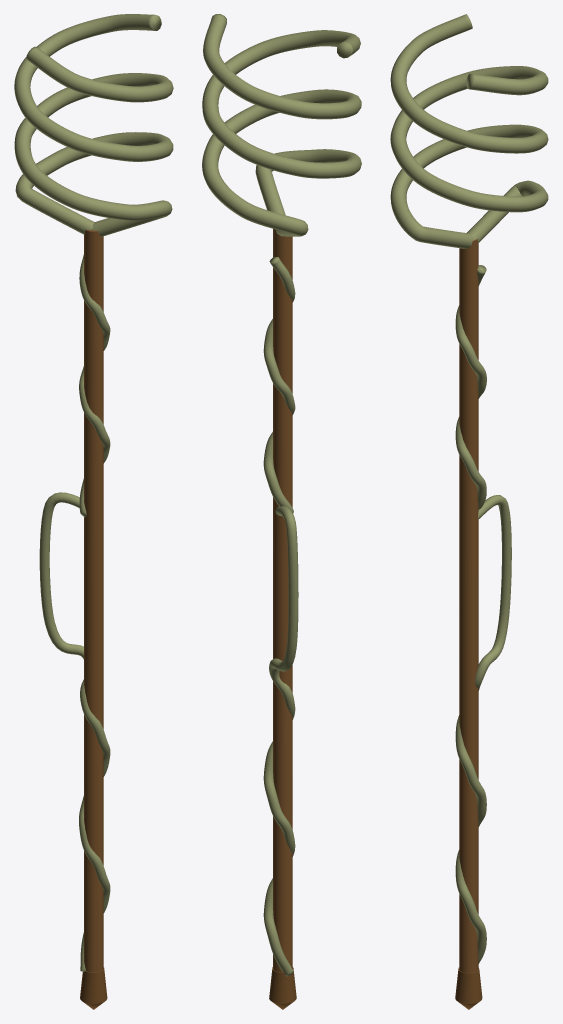
The model's file is Mage staff.glb.
3 renders of one model, left to right at view 1: azimuth 30°, elevation 25°; view 2: azimuth 150°, elevation 25°; view 3: azimuth 270°, elevation 25°, orthographic.
Visible parts, largest first — view 1: Spline 3D (×3), Staff2, Cylinder; view 2: Spline 3D (×3), Staff2, Cylinder; view 3: Spline 3D (×3), Staff2, Cylinder.
Part boxes in pixels (x1,y1,x2,y2): Spline 3D (×3): (14, 14, 173, 971); Staff2: (84, 230, 103, 972); Cylinder: (80, 967, 107, 1003); Spline 3D (×3): (202, 14, 361, 976); Staff2: (273, 229, 292, 972); Cylinder: (269, 967, 296, 1003); Spline 3D (×3): (390, 14, 548, 963); Staff2: (459, 239, 478, 972); Cylinder: (455, 967, 482, 1003).
Bounding box in the file's own units: 0.2447 × 1.65 × 0.2449.
